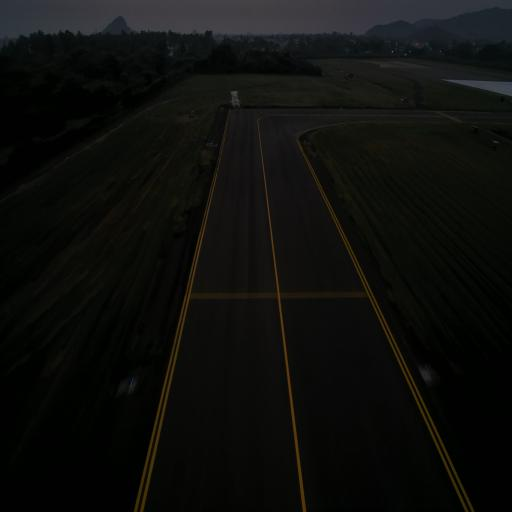on: (128, 370, 136, 390), (426, 360, 434, 380)
